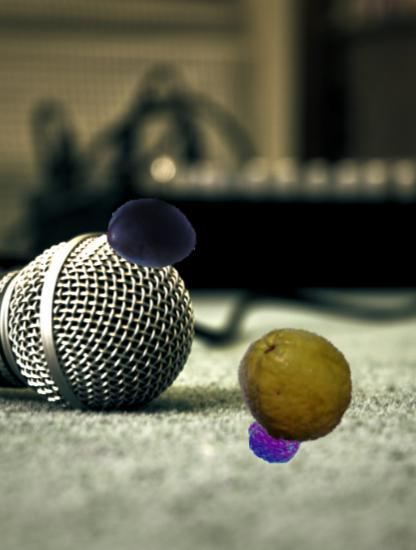Guava: (234, 325, 355, 446)
Plum: (107, 189, 198, 280)
Raspberry: (249, 411, 305, 467)
